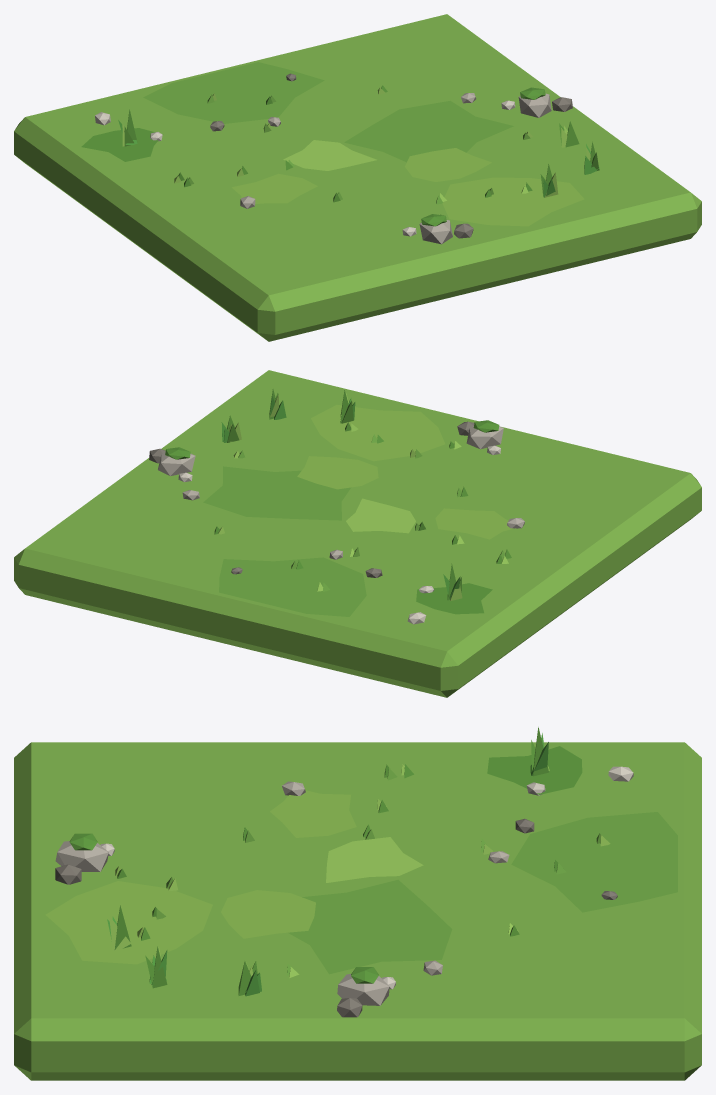
File: tile_grass_c.fbx
The picture shows the model from 3 angles, top to bottom: view 1: azimuth 30°, elevation 25°; view 2: azimuth 150°, elevation 25°; view 3: azimuth 270°, elevation 25°; orthographic projection. The views are drawn at different scales.
Parts seen in each view (by area): view 1: tile_grass_c; view 2: tile_grass_c; view 3: tile_grass_c.
Part boxes in pixels (x1=…): tile_grass_c: x1=14, y1=14, x2=701, y2=341; tile_grass_c: x1=14, y1=370, x2=701, y2=697; tile_grass_c: x1=14, y1=727, x2=701, y2=1080.
Bounding box in the file's own units: 1 × 0.1781 × 1.
